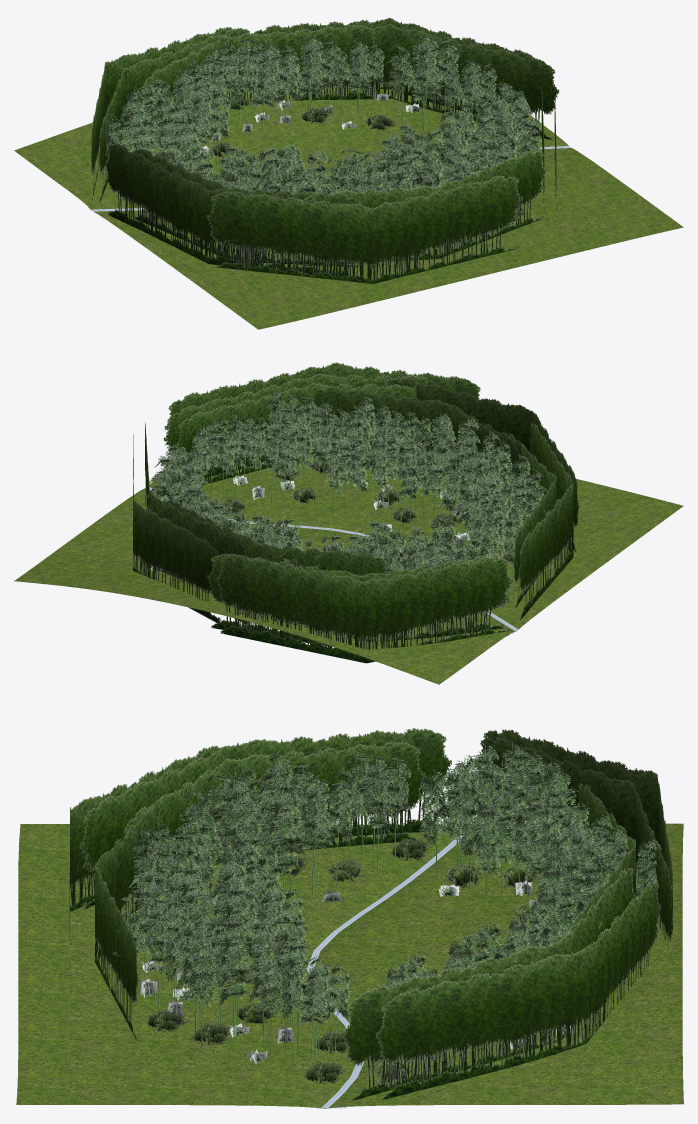
File: bamboo(river).fbx
The picture shows the model from 3 angles, top to bottom: view 1: azimuth 30°, elevation 25°; view 2: azimuth 150°, elevation 25°; view 3: azimuth 270°, elevation 25°; orthographic projection. The views are drawn at different scales.
Parts seen in each view (by area): view 1: 地面, obj120, 背景, obj121, obj32, obj34, obj22, obj21, obj20, obj29, obj23, obj24 (+22 smaller); view 2: 地面, obj120, 背景, obj121, obj17, obj4, obj9, obj12, obj16, obj14, obj13, obj32 (+21 smaller); view 3: 地面, 背景, obj121, obj120, obj5, obj24, obj29, obj17, obj2, obj15, 竹, obj6 (+30 smaller).
Boxes of the visible parts, left/top/right/bottom form: 地面: left=14, top=82, right=683, bottom=329; obj120: left=91, top=23, right=559, bottom=283; 背景: left=99, top=17, right=556, bottom=278; obj121: left=133, top=24, right=546, bottom=267; obj32: left=383, top=31, right=459, bottom=131; obj34: left=228, top=39, right=300, bottom=130; obj22: left=278, top=34, right=341, bottom=122; obj21: left=331, top=38, right=384, bottom=123; obj20: left=440, top=58, right=497, bottom=131; obj29: left=167, top=82, right=230, bottom=171; obj23: left=217, top=37, right=265, bottom=125; obj24: left=148, top=105, right=204, bottom=166; 地面: left=14, top=451, right=683, bottom=684; obj120: left=144, top=362, right=578, bottom=663; 背景: left=133, top=374, right=573, bottom=646; obj121: left=161, top=383, right=556, bottom=608; obj17: left=434, top=448, right=504, bottom=546; obj4: left=260, top=421, right=314, bottom=509; obj9: left=412, top=413, right=478, bottom=507; obj12: left=311, top=406, right=372, bottom=501; obj16: left=324, top=433, right=370, bottom=519; obj14: left=397, top=444, right=445, bottom=528; obj13: left=365, top=423, right=415, bottom=514; obj32: left=146, top=453, right=210, bottom=512; 地面: left=16, top=823, right=683, bottom=1108; 背景: left=79, top=727, right=672, bottom=1099; obj121: left=95, top=741, right=635, bottom=1041; obj120: left=69, top=729, right=673, bottom=1101; obj5: left=176, top=916, right=254, bottom=1046; obj24: left=418, top=760, right=506, bottom=888; obj29: left=466, top=782, right=543, bottom=908; obj17: left=222, top=776, right=306, bottom=903; obj2: left=331, top=749, right=411, bottom=873; obj15: left=179, top=769, right=277, bottom=893; 竹: left=276, top=955, right=350, bottom=1067; obj6: left=273, top=772, right=353, bottom=894.
Size of the model in its own units: 100 by 27.42 by 101.
